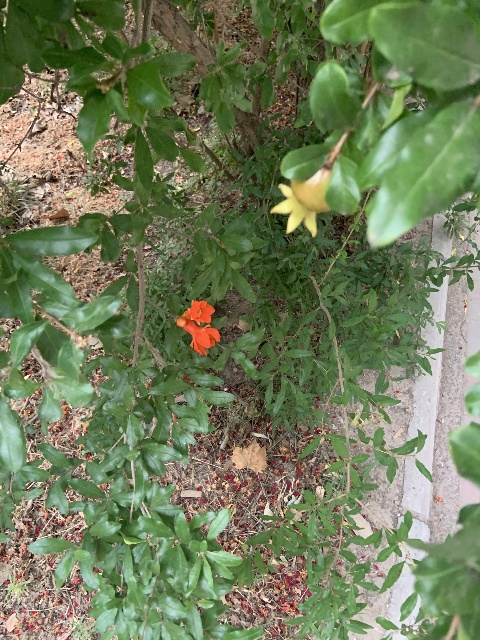bud: (176, 316, 186, 327)
flower: (183, 319, 220, 356), (182, 299, 215, 325)
mid-growth: (270, 165, 333, 236)
